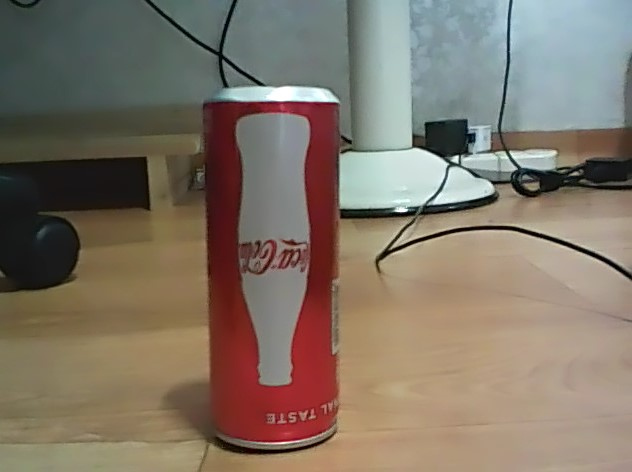Can: (197, 77, 345, 457)
